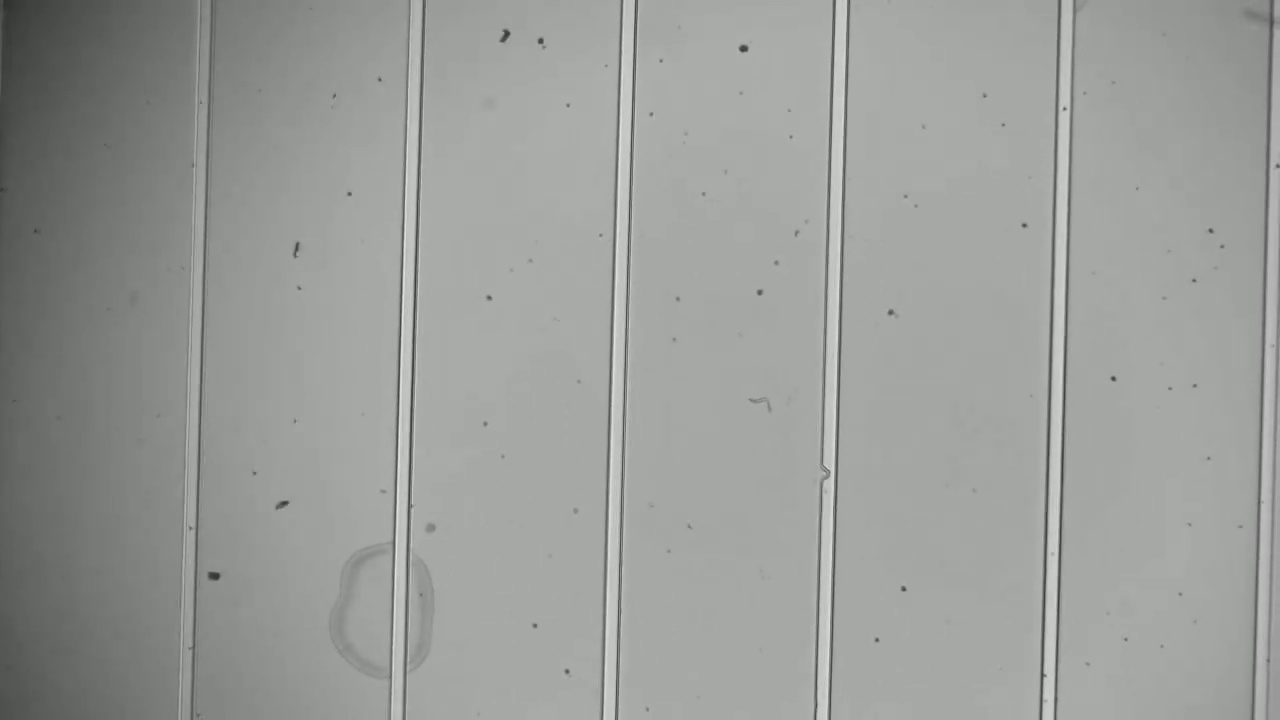edge_bite: (813, 457, 847, 487)
